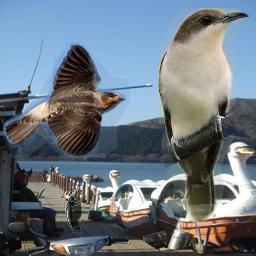Cuckoo: (158, 8, 250, 225)
Swallow: (3, 42, 130, 158)
Woodpecker: (61, 187, 82, 240)
